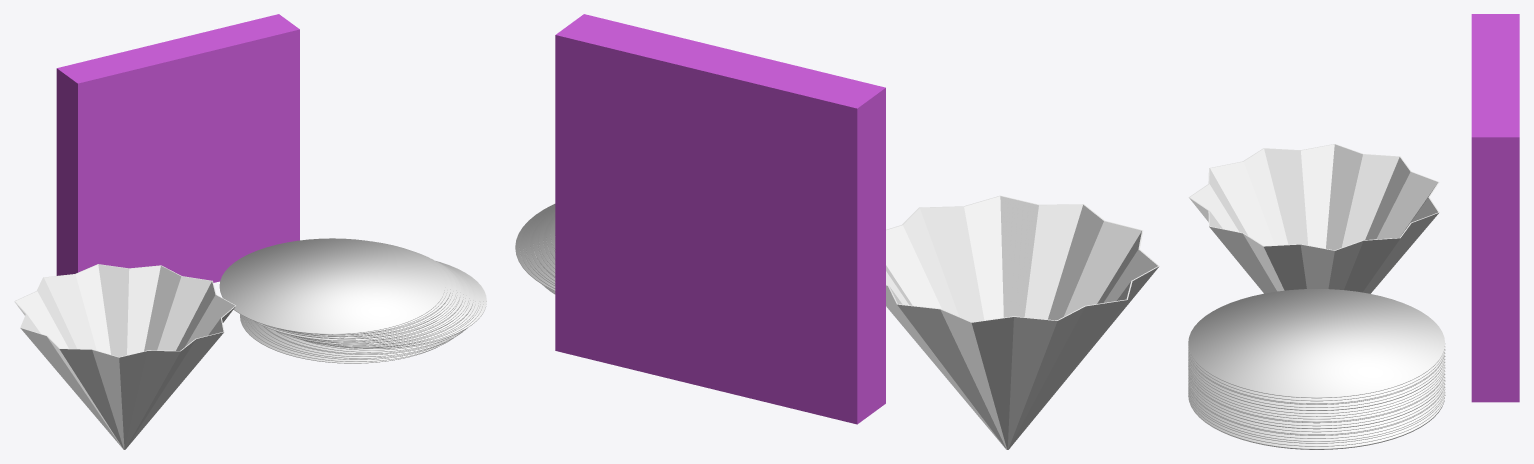
File: filter_papers.glb
3 views of the same model, side by side, from view 1: azimuth 30°, elevation 25°; view 2: azimuth 150°, elevation 25°; view 3: azimuth 270°, elevation 25° (orthographic). The views are drawn at different scales.
Parts seen in each view (by area): view 1: Box_Cube.002, Folded_Cylinder, Unfolded.032_Cylinder.035, Unfolded.001_Cylinder.004, Unfolded.004_Cylinder.007, Unfolded_Cylinder.003, Unfolded.003_Cylinder.006, Unfolded.007_Cylinder.010; view 2: Box_Cube.002, Folded_Cylinder; view 3: Folded_Cylinder, Unfolded.032_Cylinder.035, Box_Cube.002, Unfolded.010_Cylinder.013, Unfolded.031_Cylinder.034, Unfolded.019_Cylinder.022, Unfolded.016_Cylinder.019, Unfolded.028_Cylinder.031, Unfolded.013_Cylinder.016, Unfolded.025_Cylinder.028, Unfolded.009_Cylinder.012, Unfolded.021_Cylinder.024 (+11 smaller).
Part boxes in pixels (x1,y1,x2,y2): Box_Cube.002: (56, 14, 299, 282); Folded_Cylinder: (14, 264, 235, 449); Unfolded.032_Cylinder.035: (219, 238, 445, 334); Unfolded.001_Cylinder.004: (243, 316, 453, 361); Unfolded.004_Cylinder.007: (255, 322, 462, 356); Unfolded_Cylinder.003: (240, 314, 435, 363); Unfolded.003_Cylinder.006: (249, 319, 444, 358); Unfolded.007_Cylinder.010: (276, 328, 466, 352); Box_Cube.002: (555, 14, 885, 424); Folded_Cylinder: (886, 195, 1159, 449); Folded_Cylinder: (1189, 144, 1439, 293); Unfolded.032_Cylinder.035: (1188, 289, 1445, 398); Box_Cube.002: (1471, 14, 1519, 402); Unfolded.010_Cylinder.013: (1188, 391, 1445, 446); Unfolded.031_Cylinder.034: (1188, 346, 1445, 401); Unfolded.019_Cylinder.022: (1188, 371, 1445, 426); Unfolded.016_Cylinder.019: (1188, 377, 1445, 432); Unfolded.028_Cylinder.031: (1188, 353, 1445, 407); Unfolded.013_Cylinder.016: (1188, 384, 1445, 438); Unfolded.025_Cylinder.028: (1188, 359, 1445, 413); Unfolded.009_Cylinder.012: (1188, 394, 1445, 449); Unfolded.021_Cylinder.024: (1188, 367, 1445, 422).
Bounding box in the file's own units: 2.02 × 1.35 × 1.15.
Materials: 2 (1 with a texture image).
